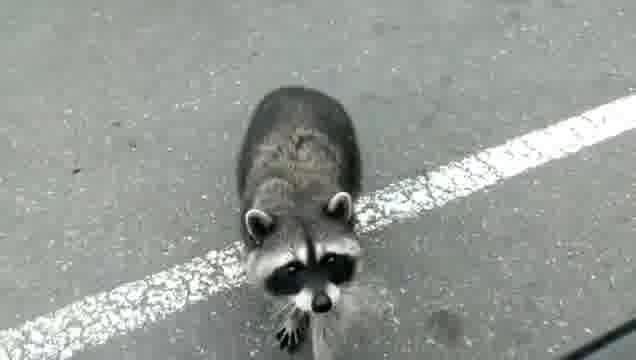raccoon: (237, 80, 375, 360)
